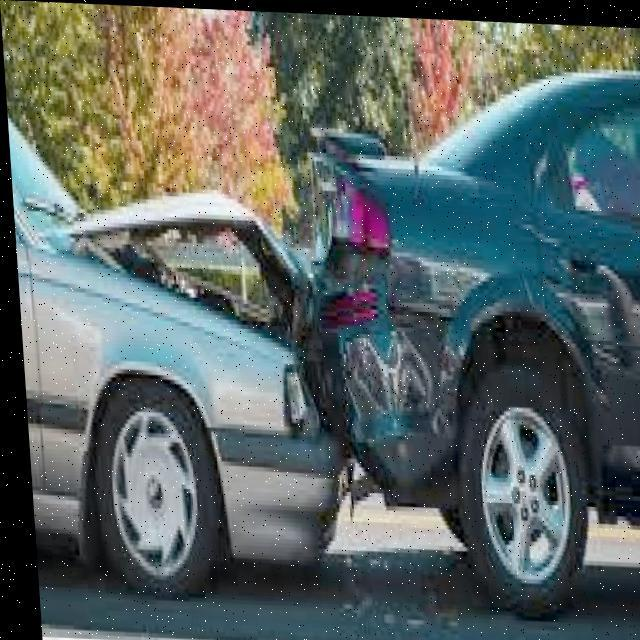multiple_accident: (40, 52, 639, 640)
